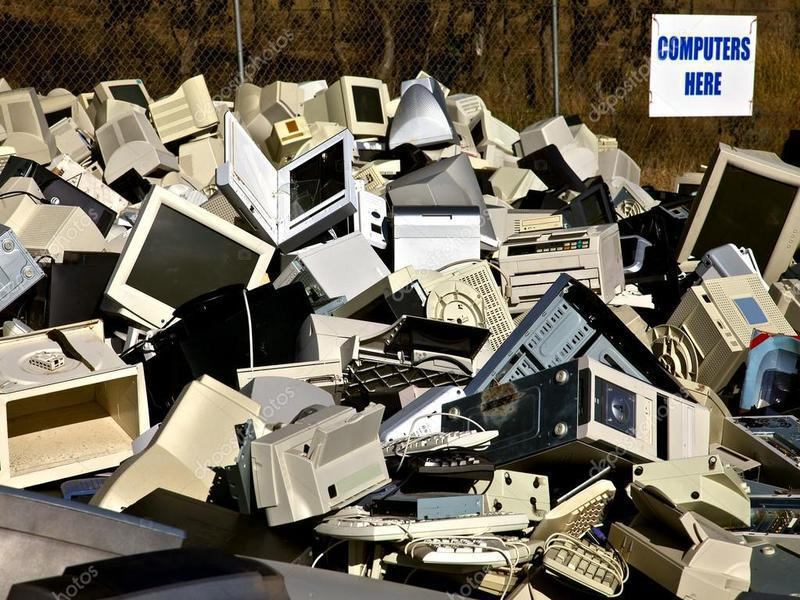keyboard: (309, 514, 537, 544), (537, 528, 633, 598), (393, 535, 528, 571), (380, 422, 503, 458), (393, 454, 499, 482)
tv_pc: (104, 184, 273, 331), (224, 109, 361, 245), (675, 138, 800, 281), (96, 110, 184, 184), (305, 70, 394, 142), (145, 67, 224, 144)
